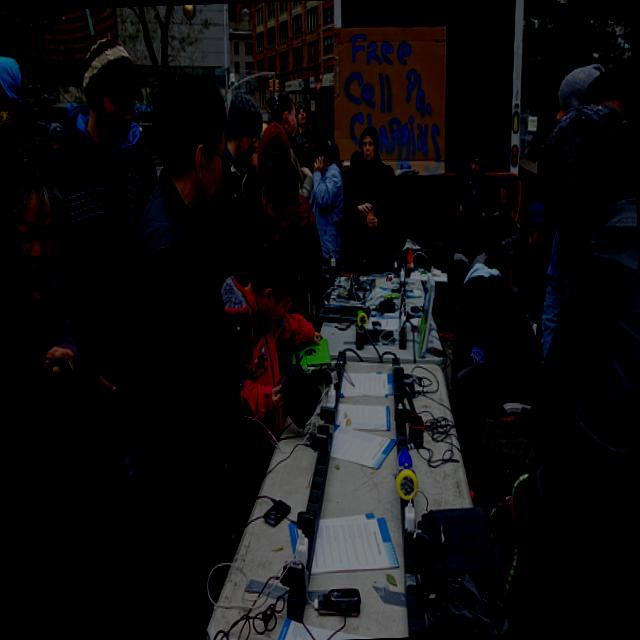Vehicle: (327, 0, 534, 185)
